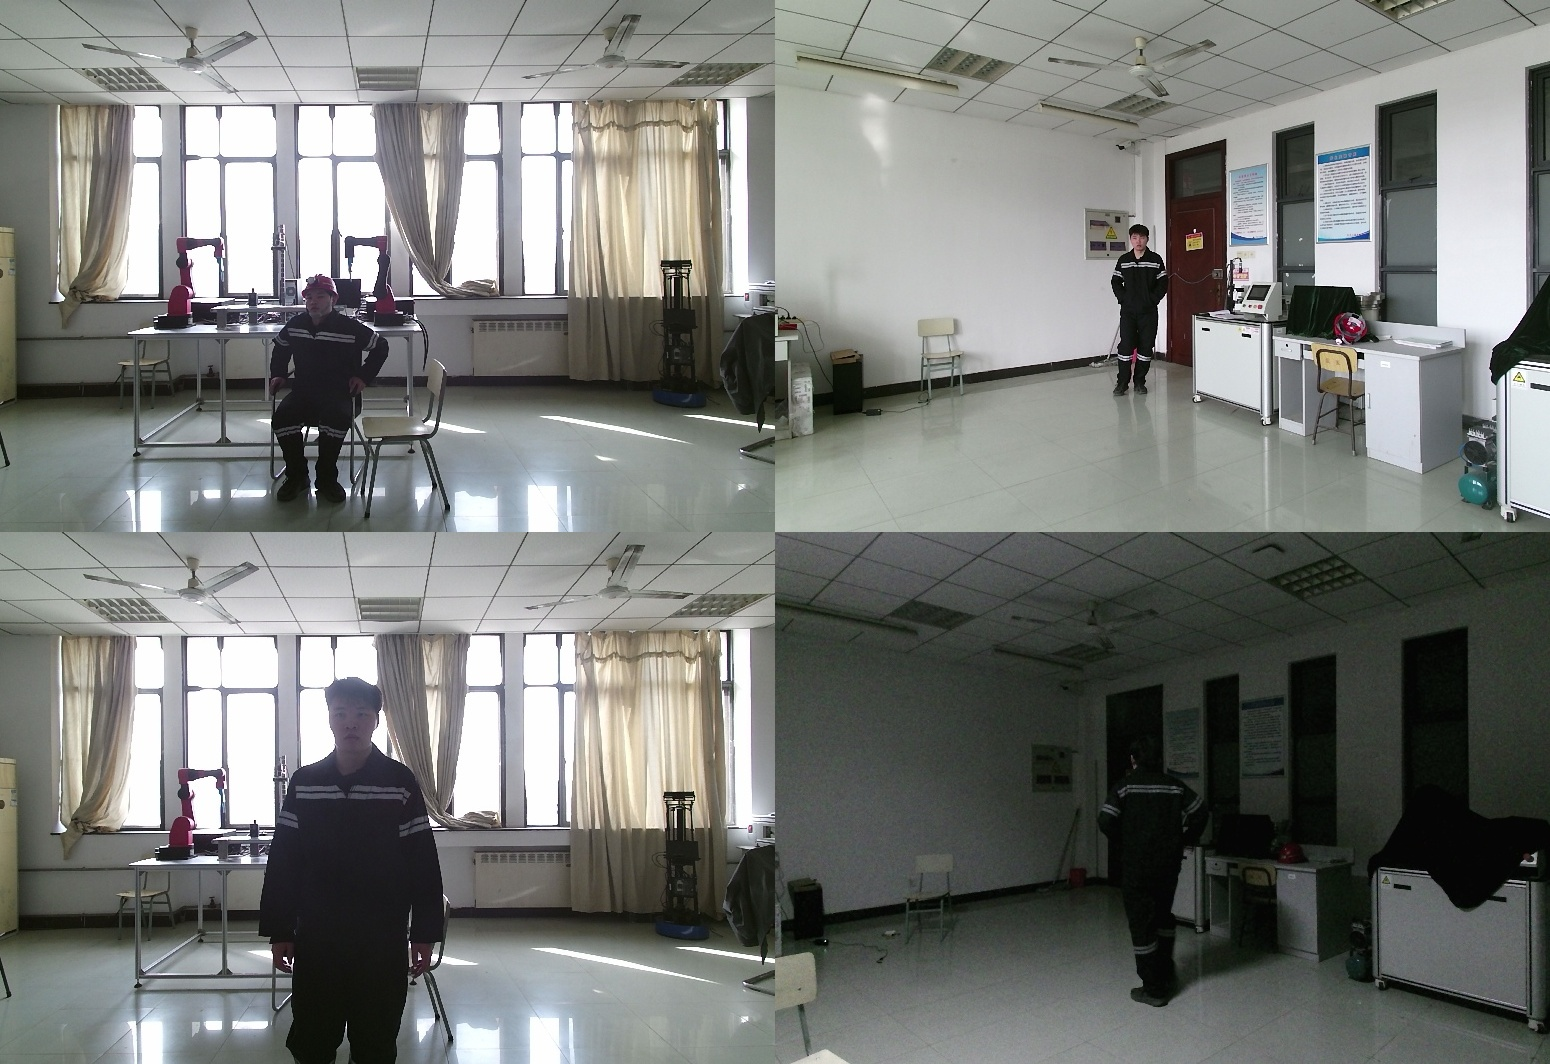person: (268, 678, 458, 1064), (1101, 737, 1227, 1004), (268, 276, 395, 503), (1108, 224, 1172, 398)
